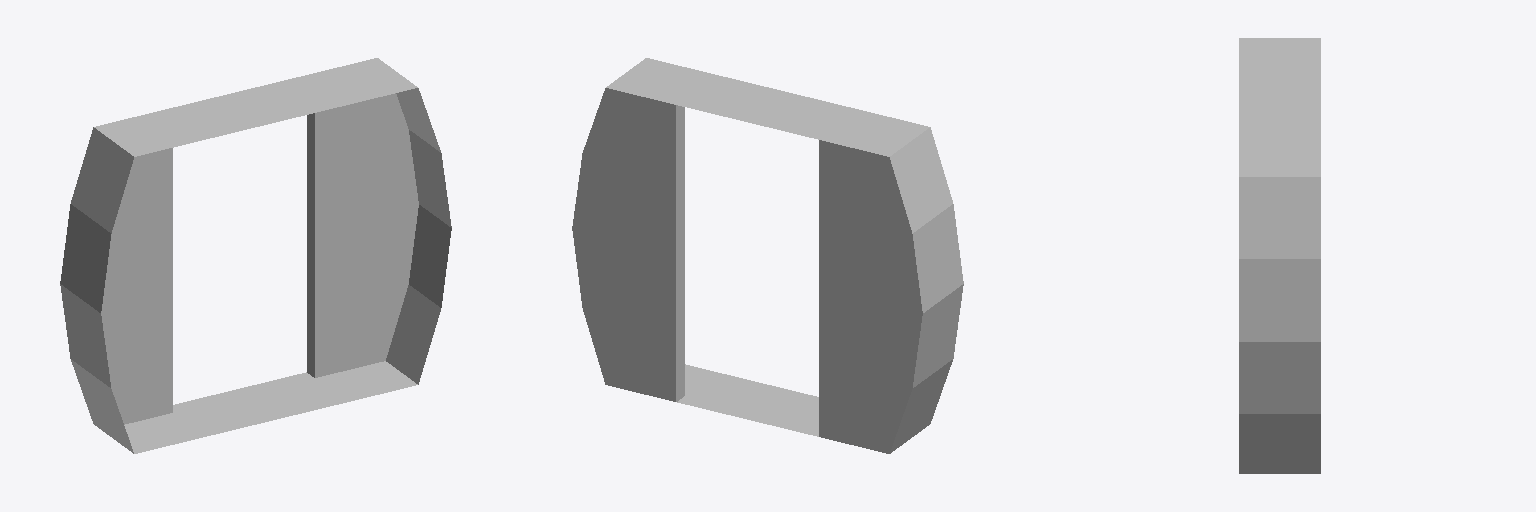
The model's file is Base-Corridor.obj.
3 views of the same model, side by side, from view 1: azimuth 30°, elevation 25°; view 2: azimuth 150°, elevation 25°; view 3: azimuth 270°, elevation 25° (orthographic).
Parts seen in each view (by area): view 1: Plane; view 2: Plane; view 3: Plane.
Boxes of the visible parts, x1=… form: Plane: x1=60, y1=58, x2=451, y2=453; Plane: x1=572, y1=58, x2=963, y2=453; Plane: x1=1239, y1=38, x2=1320, y2=473.
Size of the model in its own units: 2.47 by 2 by 0.5.